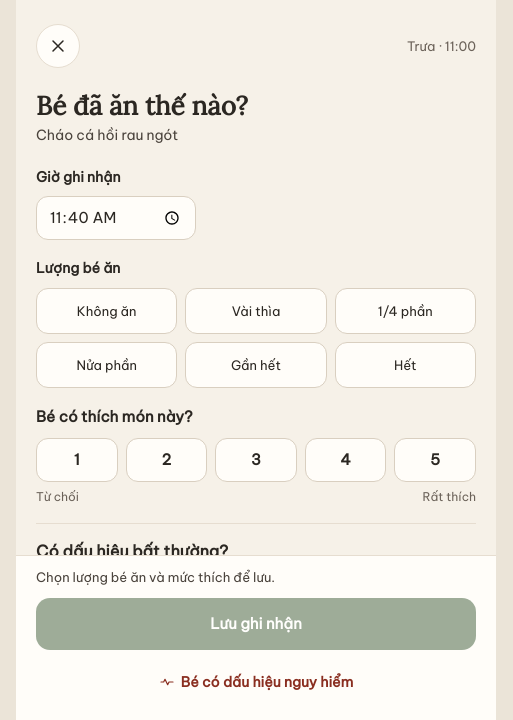
Test: Log a meal (S07) › TC-LOG-001 saves the log with the time in Vietnam and says it is done
Expected: the heading "Bé đã ăn thế nào?" is shown, [36,89,248,122]
Expected: the text "Cháo cá hồi rau ngót" is shown, [36,126,178,144]
Click the button "Nửa phần".
click(107, 365)  # box [36,342,177,388]
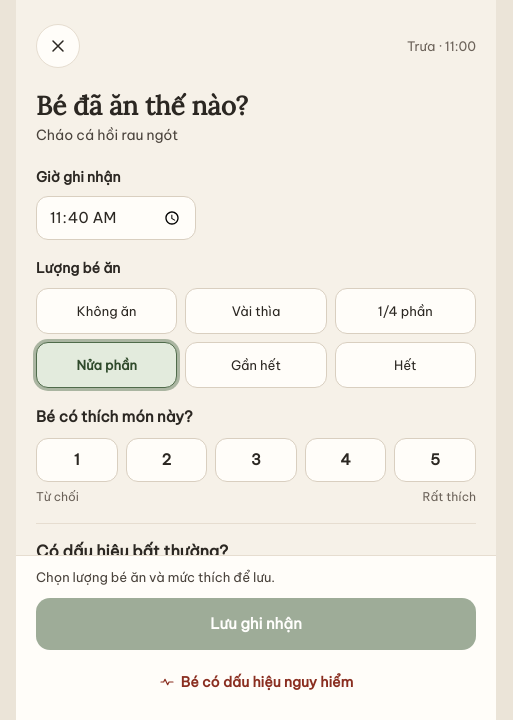
Click the button named "3 trên 5".
click(256, 460)  # box [215,438,297,482]
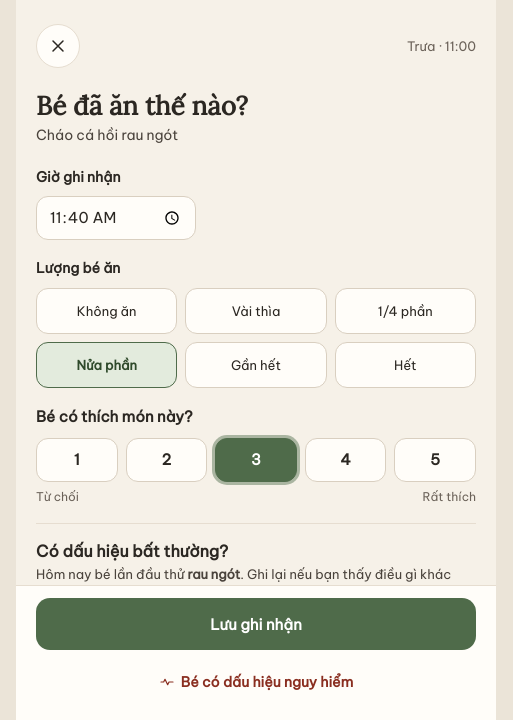
Expected: the button "Nửa phần" is pressed, [36,342,177,388]
Click the button "Lưu ghi nhận".
click(256, 624)  # box [36,598,476,650]
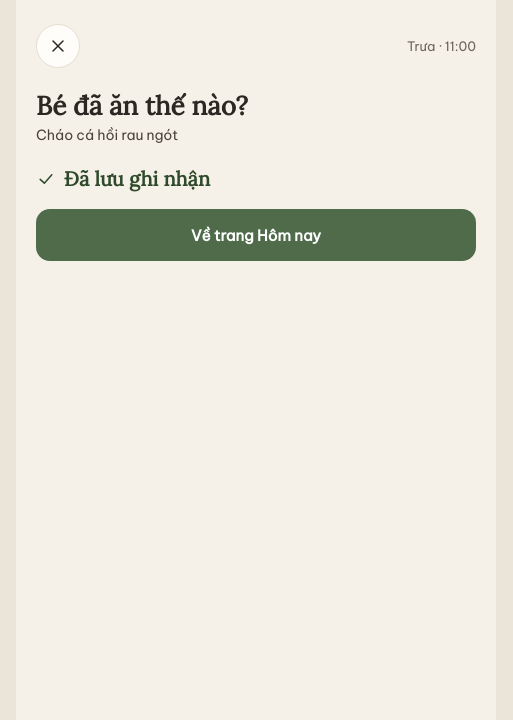
Expected: the heading "Đã lưu ghi nhận" is shown, [36,166,210,192]
